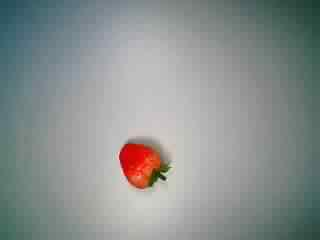strawberry: (111, 134, 177, 200)
